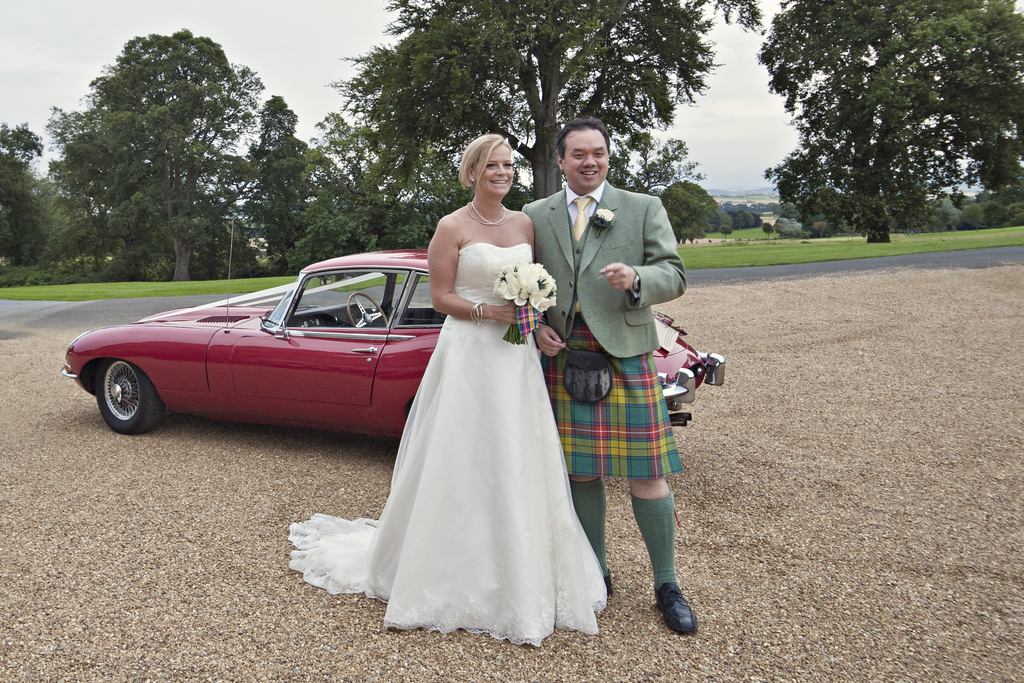mobil: (64, 247, 451, 450)
